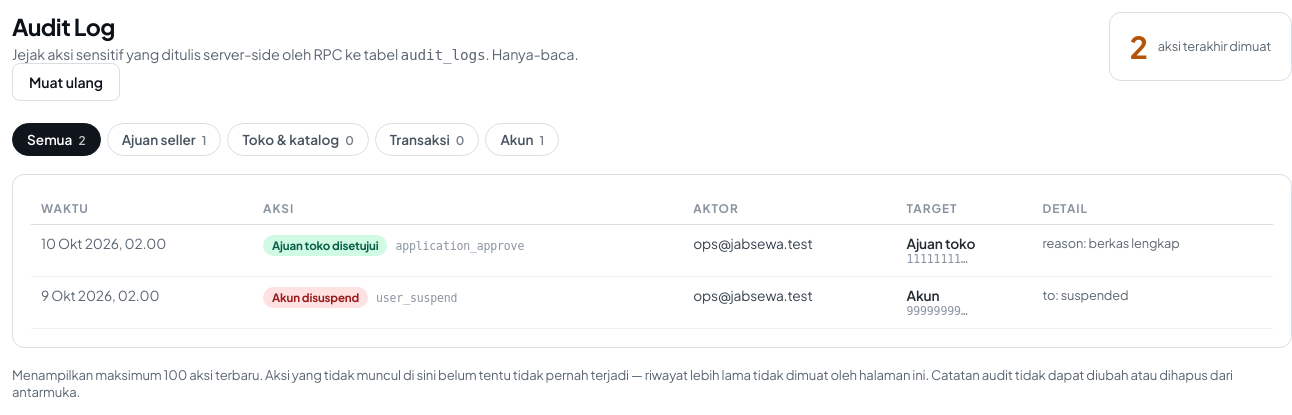
Test: AdminAudit › filter kategori menyaring baris yang dimuat
The image size is (1292, 415).
expect the text "Ajuan toko disetujui" is shown: met, box [263, 235, 388, 256]
Click the button "Akun1": {"x": 522, "y": 140} [485, 123, 559, 156]
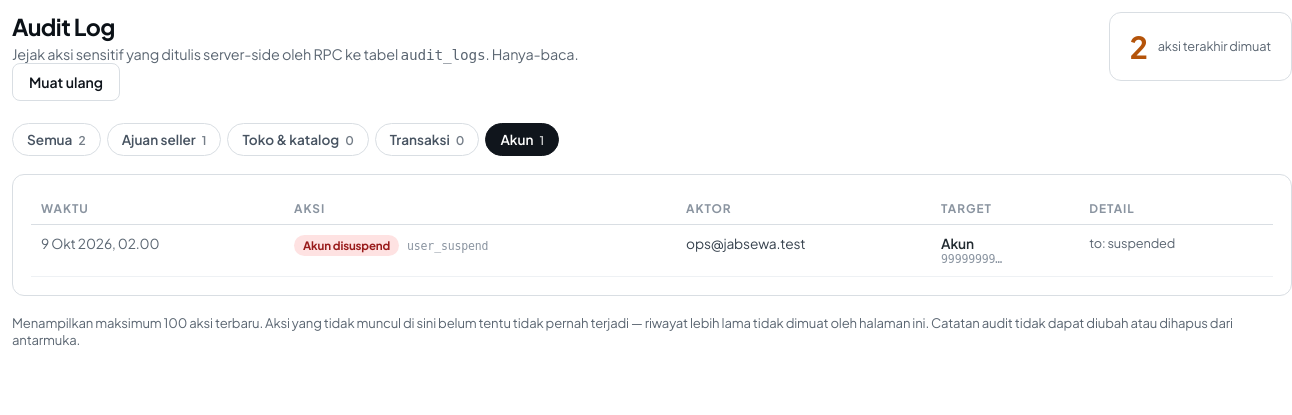
expect the text "Akun disuspend" is shown: met, box [294, 235, 399, 256]
expect the text "Ajuan toko disetujui" is gone: met
